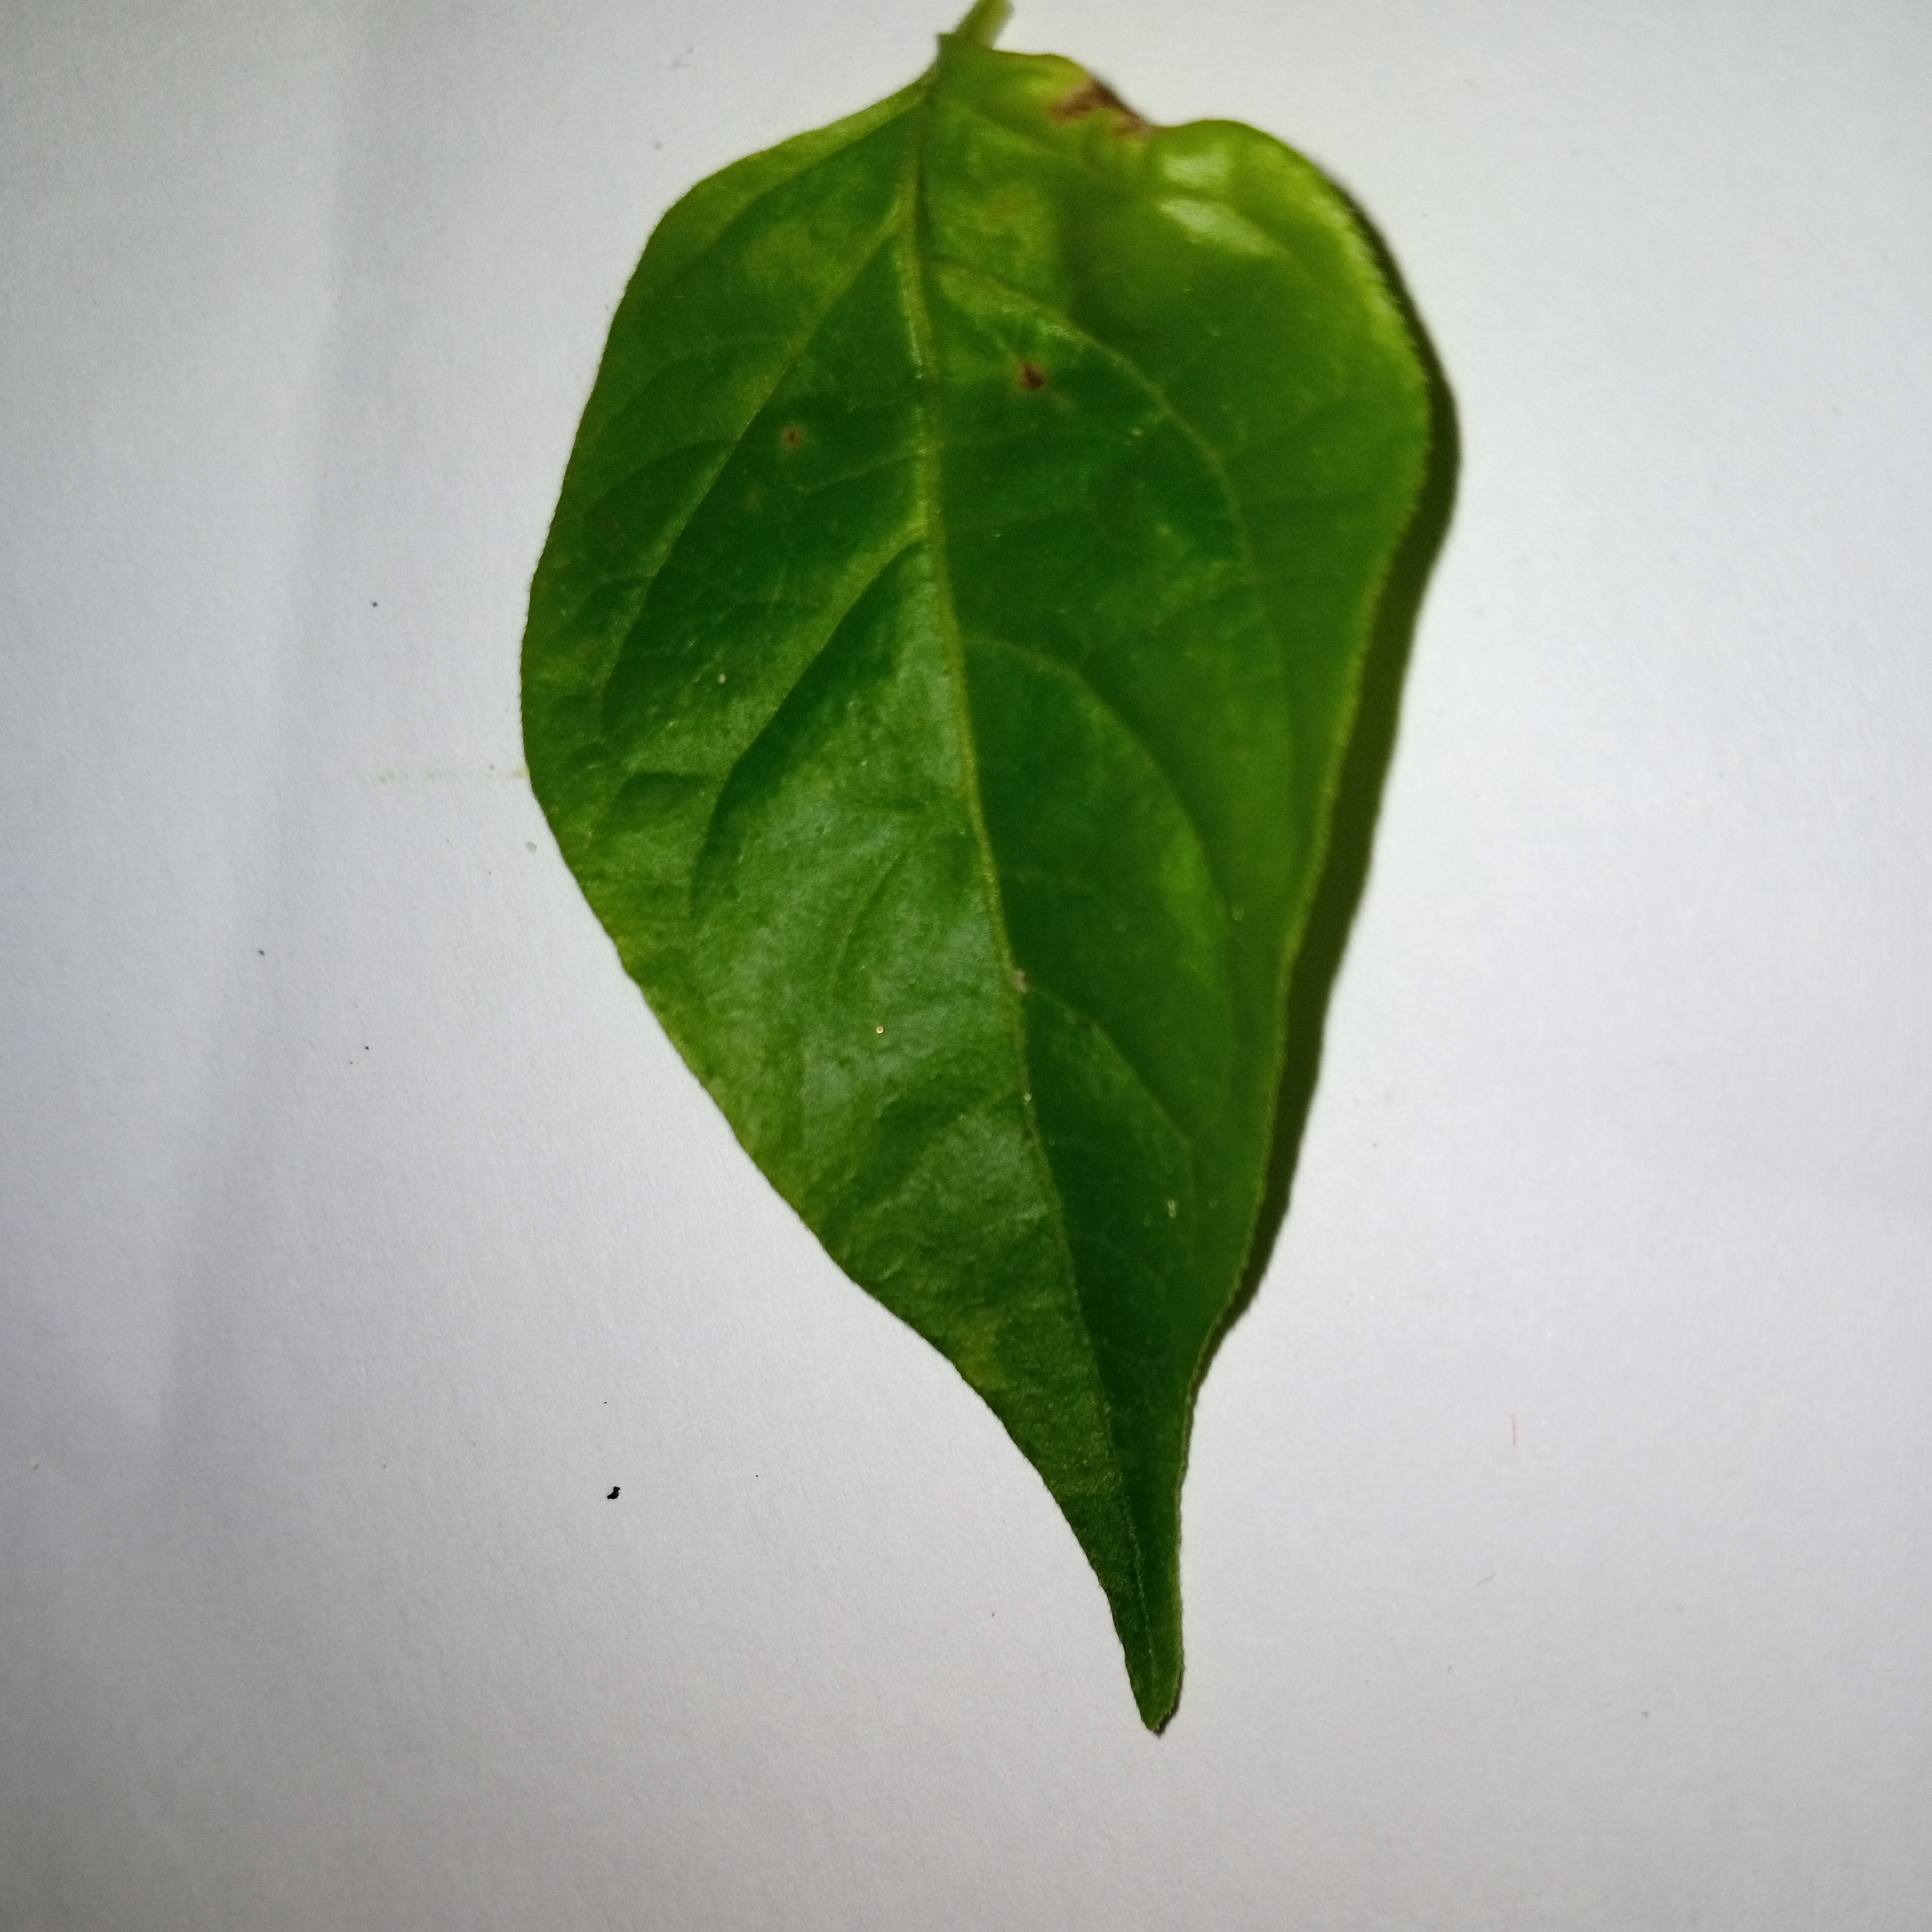Leaf: (313, 30, 1598, 1787)
